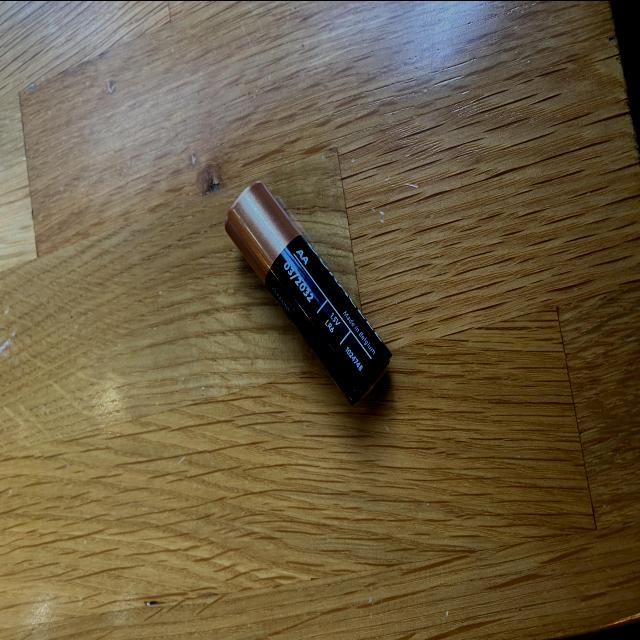AA: (221, 176, 396, 410)
